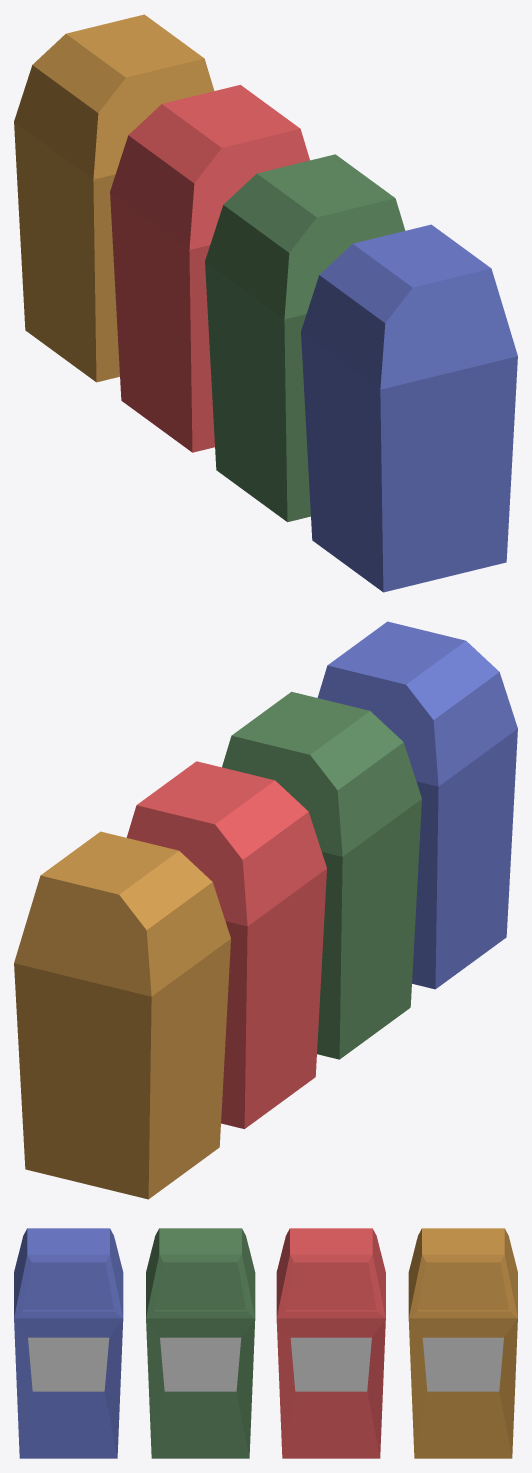
The model's file is bin.fbx.
3 views of the same model, one above another, from view 1: azimuth 30°, elevation 25°; view 2: azimuth 150°, elevation 25°; view 3: azimuth 270°, elevation 25° (orthographic). The views are drawn at different scales.
Parts seen in each view (by area): view 1: Cube.002; view 2: Cube.002; view 3: Cube.002.
Boxes of the visible parts, bbox=[...] form: Cube.002: bbox=[14, 14, 517, 592]; Cube.002: bbox=[14, 621, 517, 1199]; Cube.002: bbox=[14, 1228, 517, 1458].
Size of the model in its own units: 60.86 by 123 by 281.
